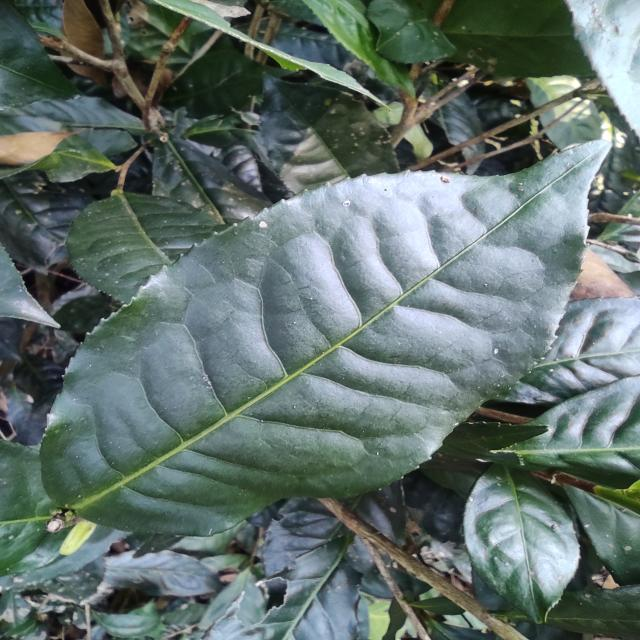Category D(7+ days, Not for Tea): (32, 121, 623, 548)
